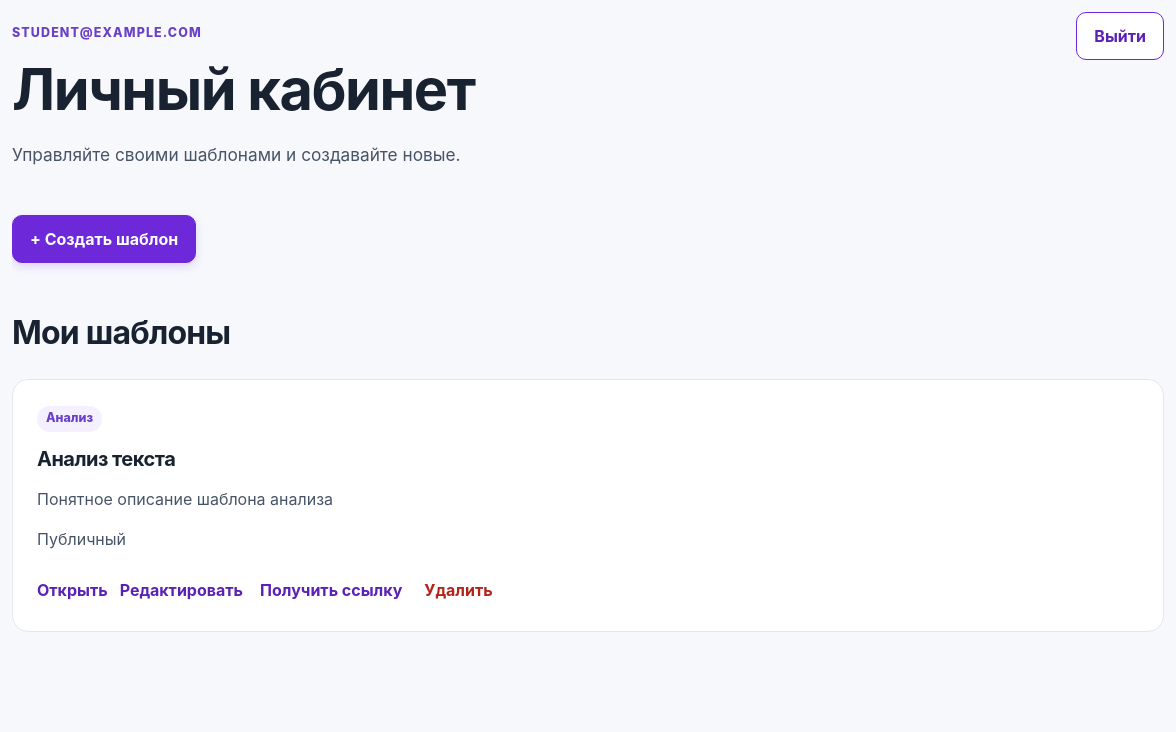
Test: страницы › показывает и удаляет шаблон в кабинете
Check: the heading "Анализ текста" is shown, box top-left (37, 447), bottom-right (175, 471)
Step 1. Click the button "Удалить" → (458, 590), box top-left (419, 573), bottom-right (498, 607)
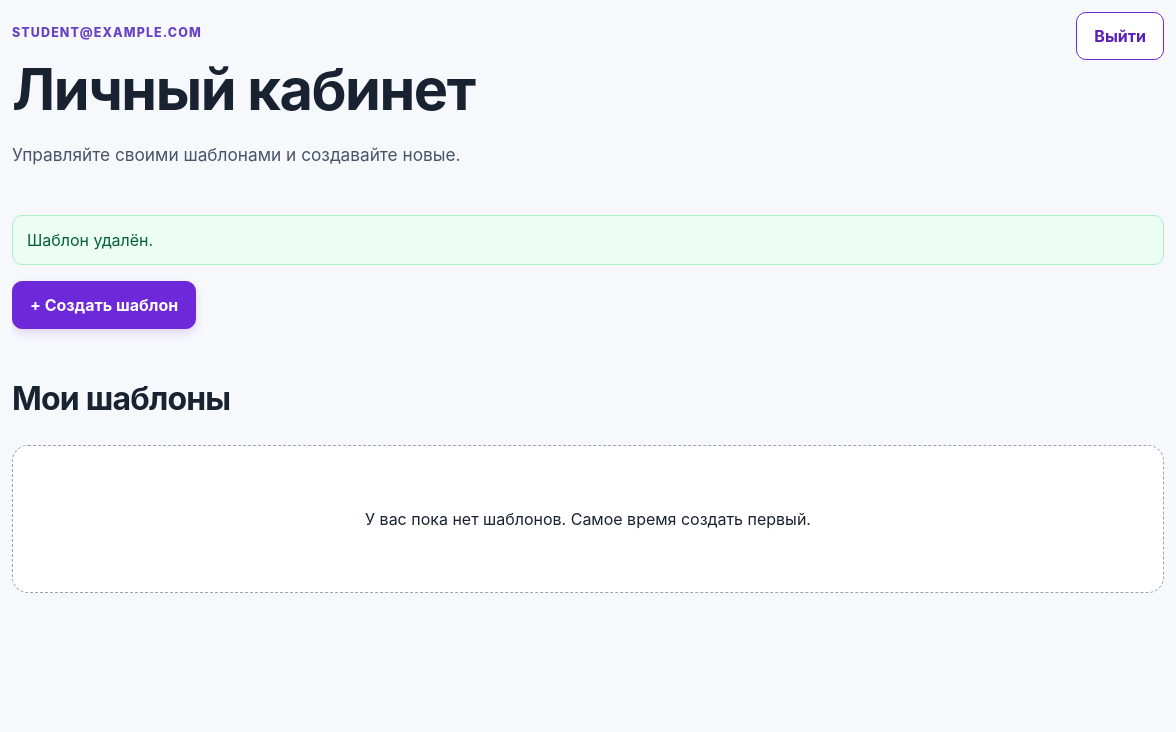
Check: the heading "Анализ текста" is gone
